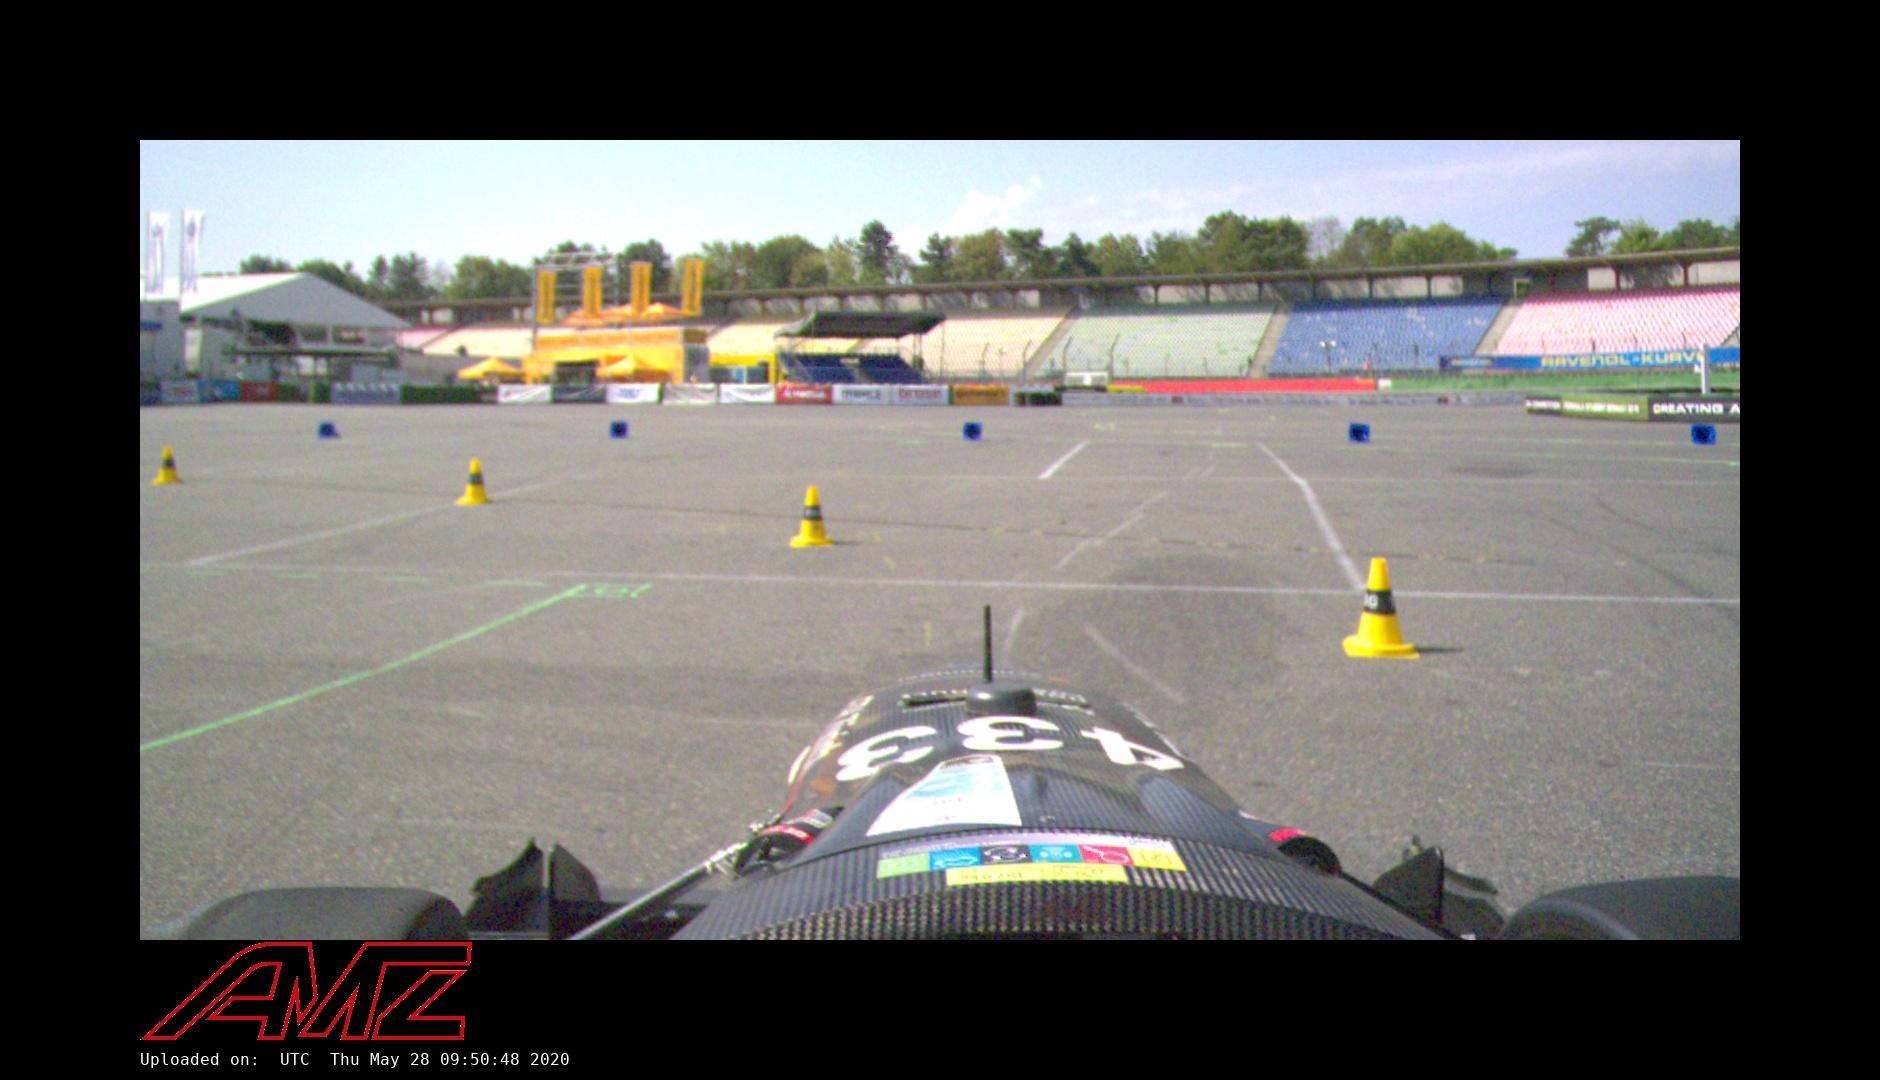blue_cone: (316, 422, 343, 441)
yellow_cone: (1342, 556, 1422, 661), (788, 484, 835, 549), (452, 456, 496, 508), (148, 444, 185, 487)
